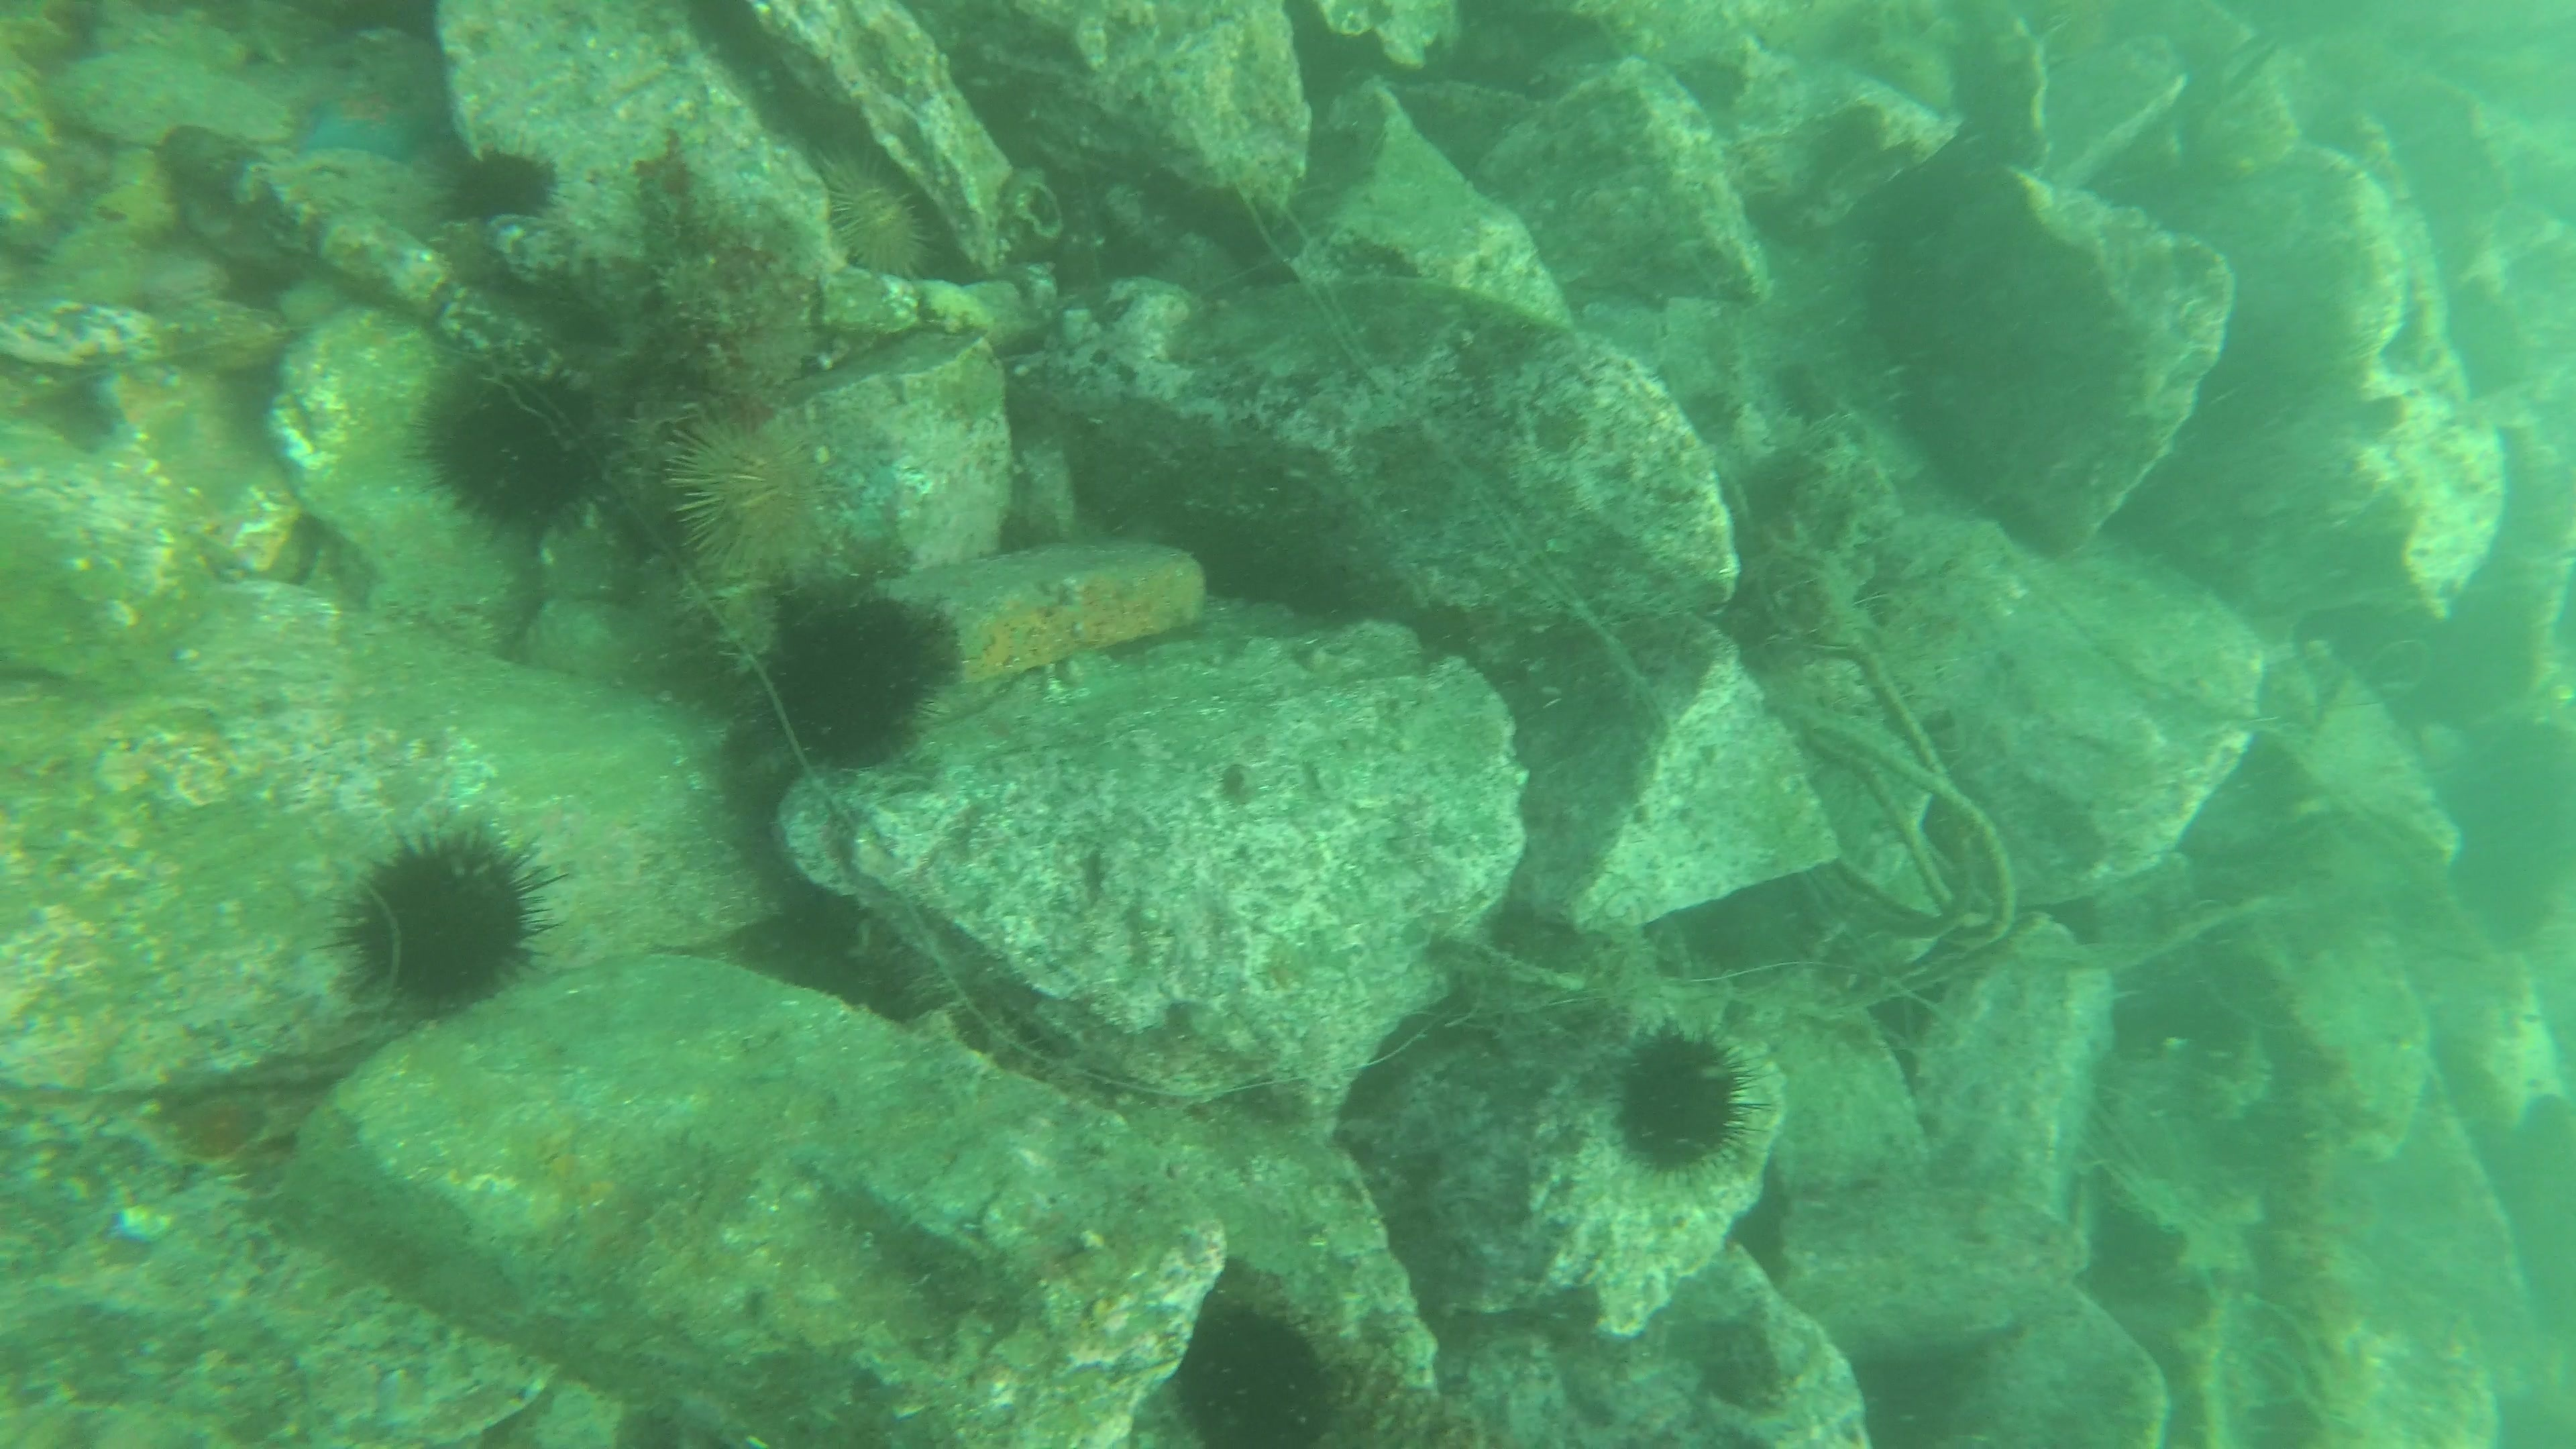echinus: (327, 817, 561, 1017), (412, 350, 619, 536), (757, 580, 955, 771), (660, 402, 839, 577), (1162, 1292, 1346, 1445), (1605, 1017, 1762, 1180), (805, 145, 943, 290), (435, 138, 563, 230)
starfish: (285, 78, 439, 170)
